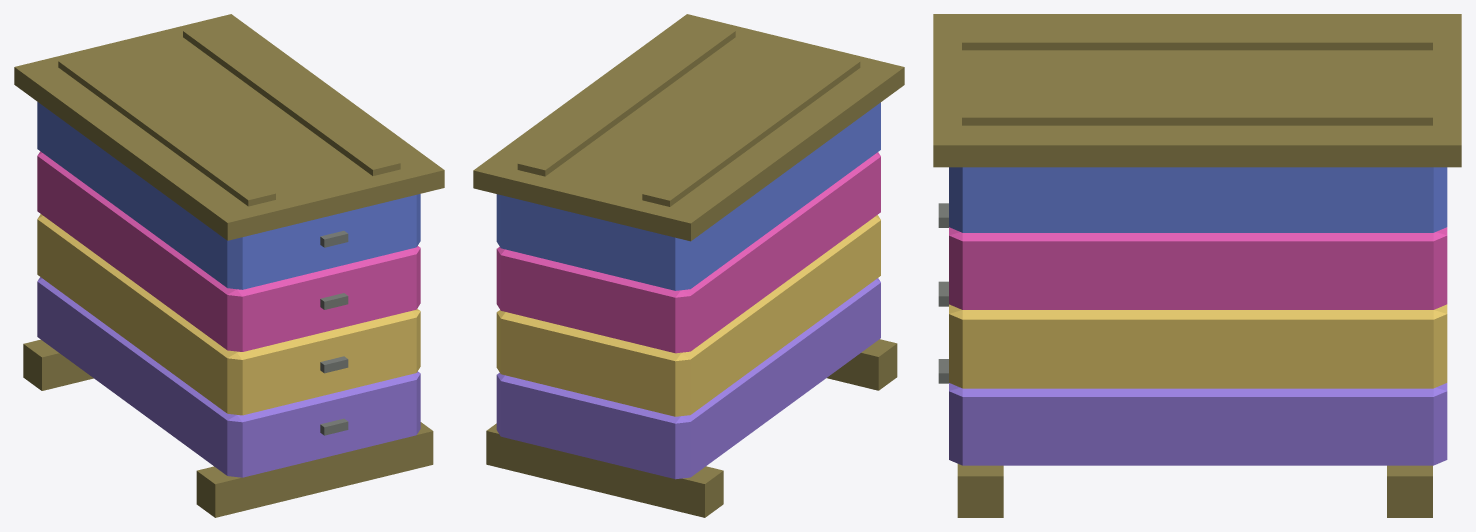
File: beehive01.fbx
3 views of the same model, side by side, from view 1: azimuth 30°, elevation 25°; view 2: azimuth 150°, elevation 25°; view 3: azimuth 270°, elevation 25° (orthographic). The views are drawn at different scales.
Visible parts, largest first — view 1: Cube.004; view 2: Cube.004; view 3: Cube.004.
Part boxes in pixels (x1=…): Cube.004: x1=14, y1=14, x2=444, y2=517; Cube.004: x1=473, y1=14, x2=904, y2=517; Cube.004: x1=933, y1=14, x2=1461, y2=517.
Bounding box in the file's own units: 0.7668 × 1.03 × 1.29.
